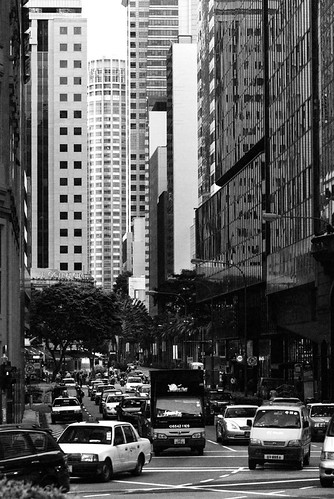building: (199, 12, 334, 355), (5, 8, 93, 295), (127, 1, 184, 238), (87, 50, 130, 299)
car: (54, 419, 156, 473), (244, 400, 313, 470), (217, 400, 255, 443), (48, 396, 84, 424)
tree: (16, 283, 119, 394)
truck: (148, 368, 206, 452)
